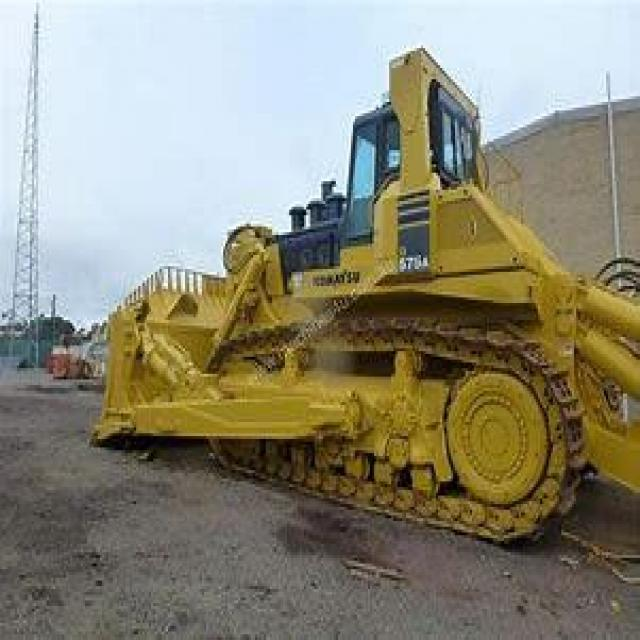Bulldozer: (81, 29, 638, 564)
